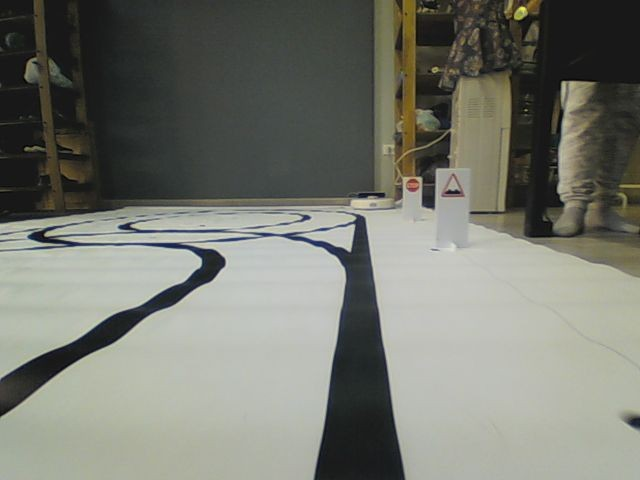Nerov: (439, 171, 465, 198)
